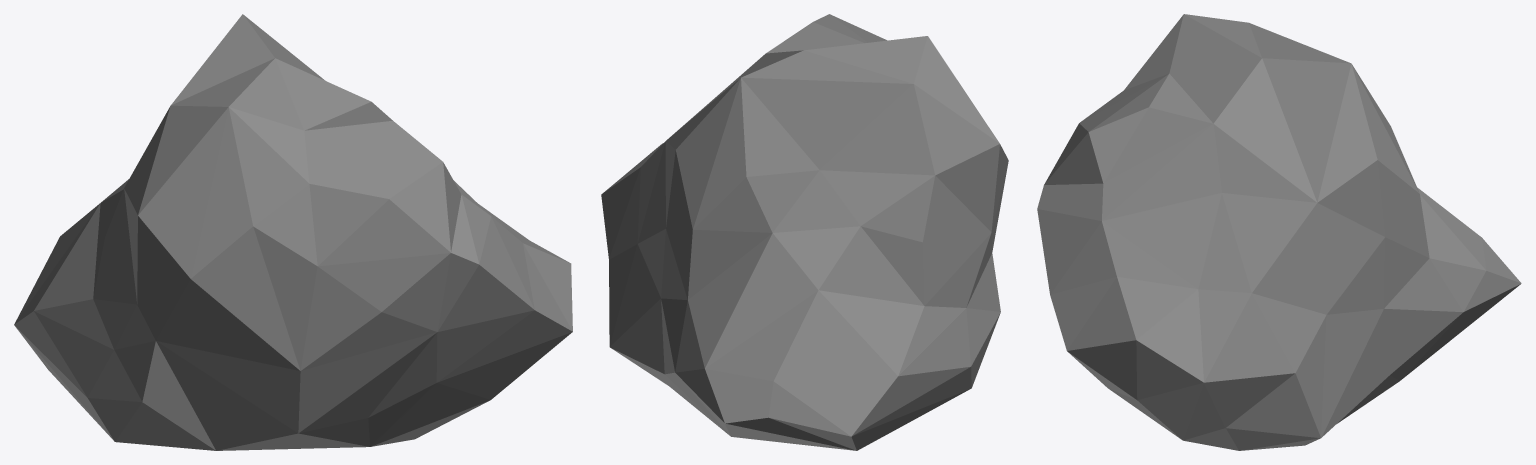
Rendered from rock01.fbx.
The picture shows the model from 3 angles, left to right: view 1: azimuth 30°, elevation 25°; view 2: azimuth 150°, elevation 25°; view 3: azimuth 270°, elevation 25°; orthographic projection. The views are drawn at different scales.
Visible parts, largest first — view 1: rock01_LOD0; view 2: rock01_LOD0; view 3: rock01_LOD0.
Boxes of the visible parts, x1=… form: rock01_LOD0: x1=14, y1=14, x2=572, y2=450; rock01_LOD0: x1=601, y1=14, x2=1008, y2=450; rock01_LOD0: x1=1037, y1=14, x2=1521, y2=450.
Size of what is drawn, in the model's own units: 163 by 136 by 176.
